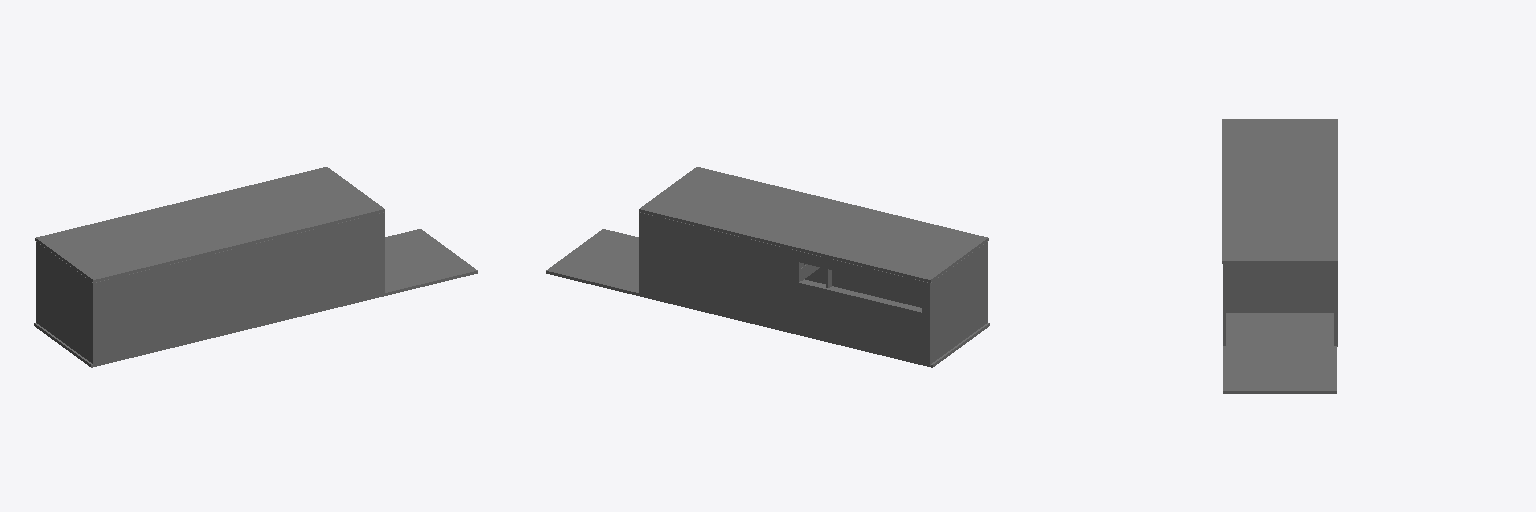
Rendered from layout.obj.
The picture shows the model from 3 angles: view 1: azimuth 30°, elevation 25°; view 2: azimuth 150°, elevation 25°; view 3: azimuth 270°, elevation 25°; orthographic projection.
Visible parts, largest first — view 1: main_walls, entire_roof toggable_roofs, floor; view 2: main_walls, entire_roof toggable_roofs, floor; view 3: entire_roof toggable_roofs, floor, midwalls end_of_level.
Part boxes in pixels (left/top/right/bottom): main_walls: left=36, top=212, right=384, bottom=365; entire_roof toggable_roofs: left=35, top=167, right=384, bottom=282; floor: left=34, top=229, right=477, bottom=367; main_walls: left=639, top=212, right=987, bottom=365; entire_roof toggable_roofs: left=639, top=167, right=988, bottom=282; floor: left=546, top=229, right=989, bottom=367; entire_roof toggable_roofs: left=1222, top=119, right=1337, bottom=263; floor: left=1223, top=313, right=1336, bottom=393; midwalls end_of_level: left=1224, top=263, right=1336, bottom=312.
Bounding box in the file's own units: 2805 × 607 × 729.